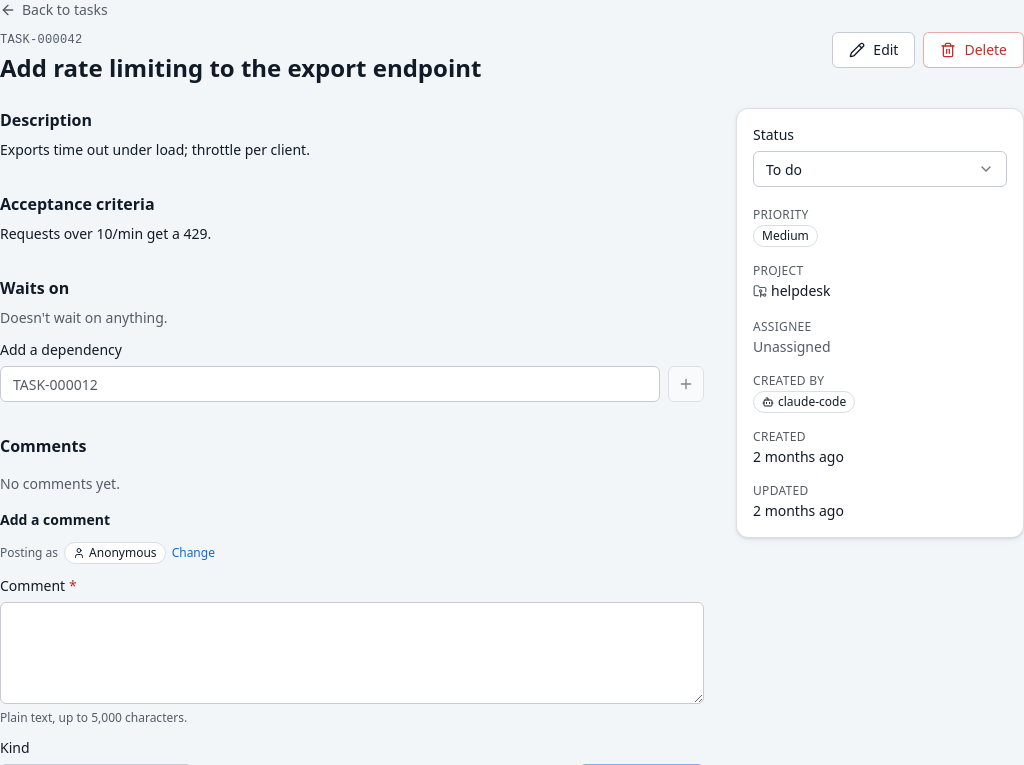
TaskDetailPage — status change › opens the dialog for a status that needs a reason, and posts what was typed
Click the dropdown named "status" at (880, 169), box [753,151,1007,187]
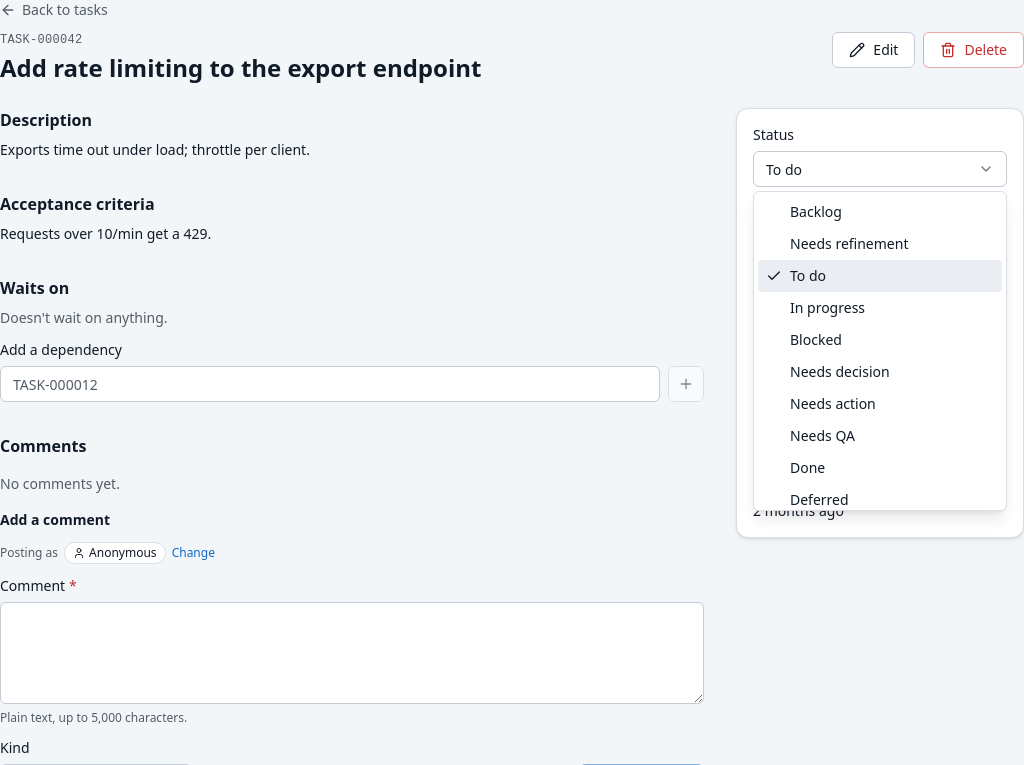
Click the option "Blocked" at (816, 340), box [790,330,842,349]
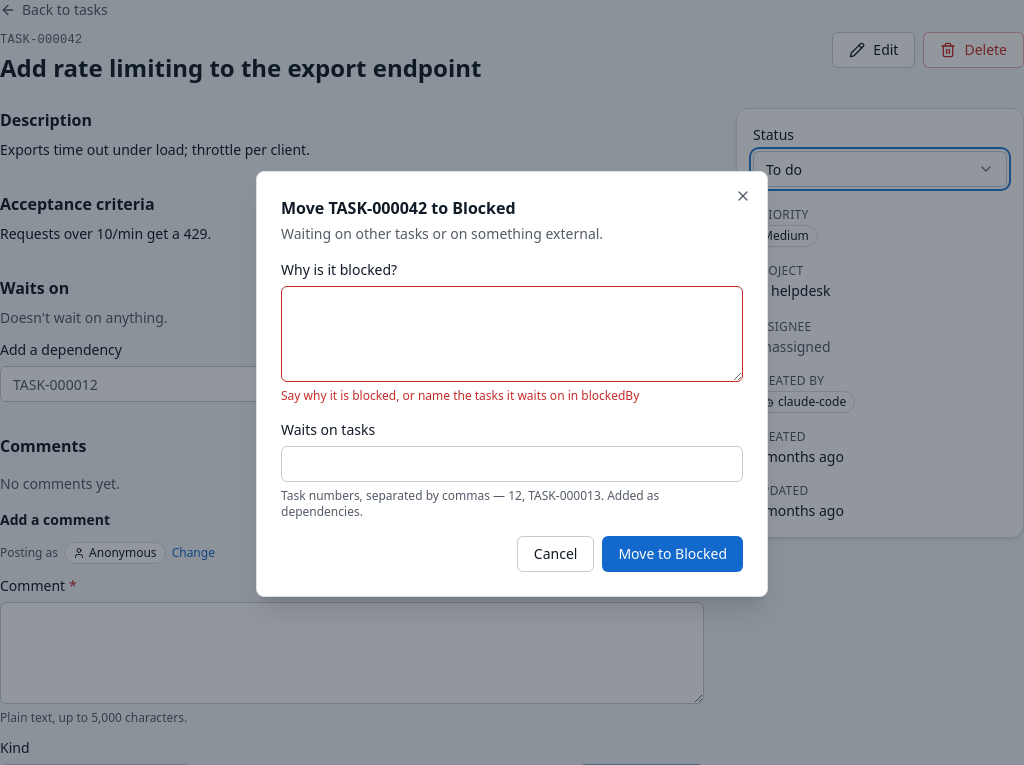
Type "Waiting on the CDN team." into the text box labelled "Why is it blocked?" at (512, 334), box [281,286,743,382]
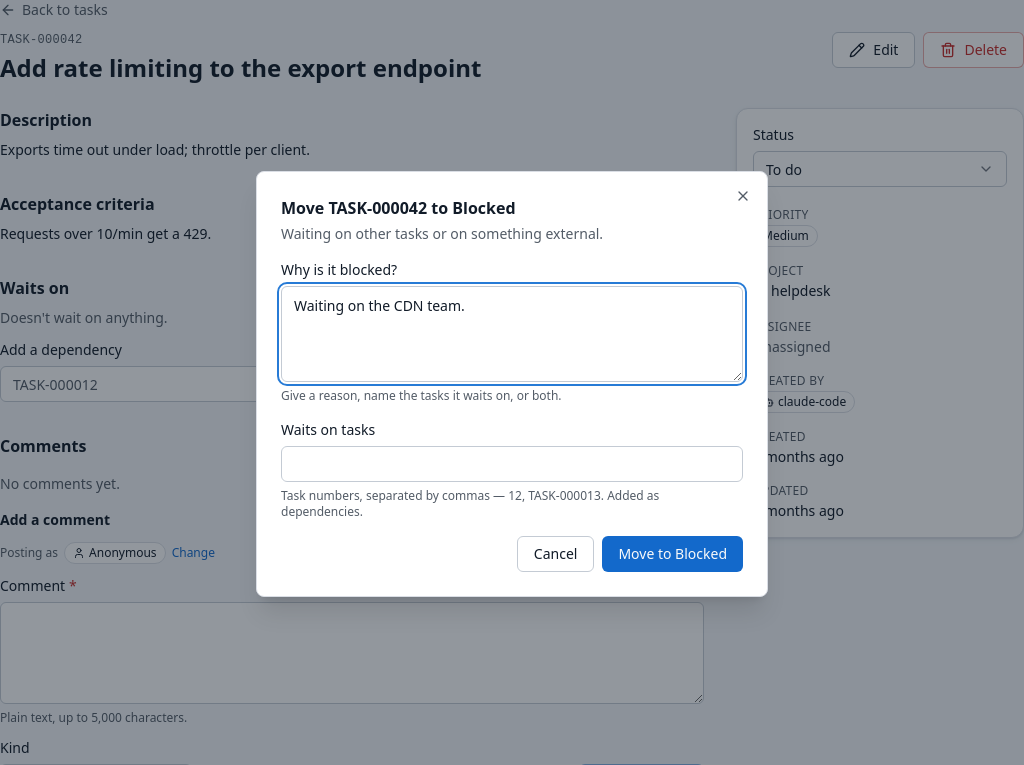
Type "TASK-000012, #13" into the field labelled "Waits on tasks" at (512, 464), box [281,446,743,482]
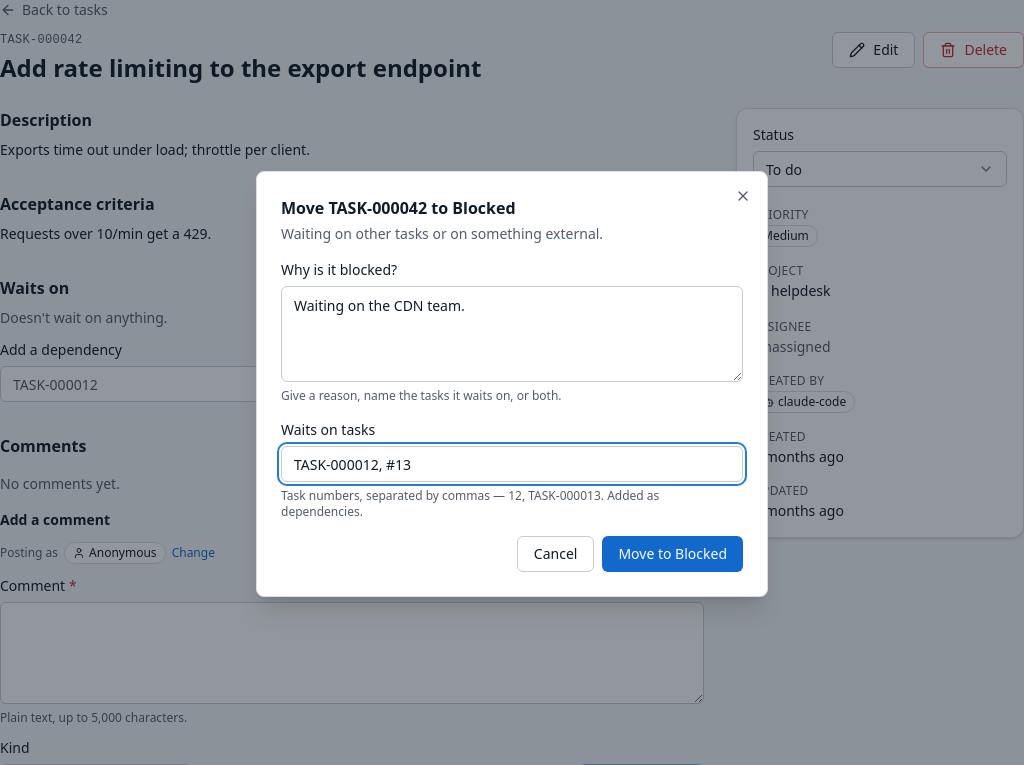
Click the button "Move to Blocked" at (673, 554), box [602,536,743,572]
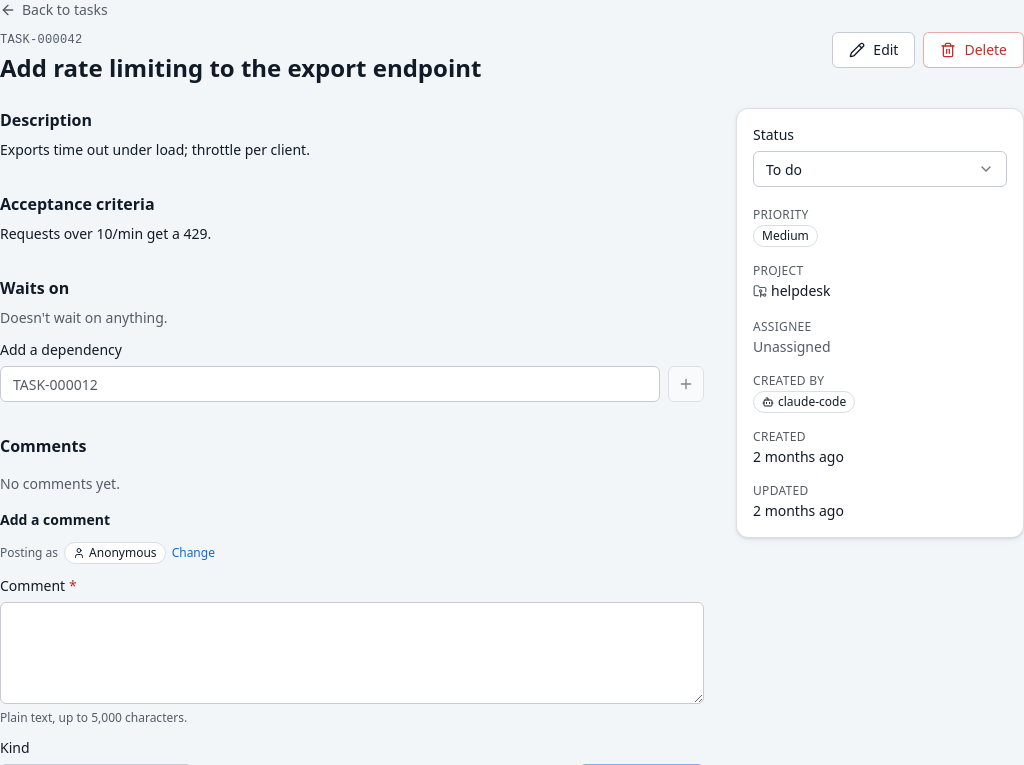
Expected: the dialog is gone
